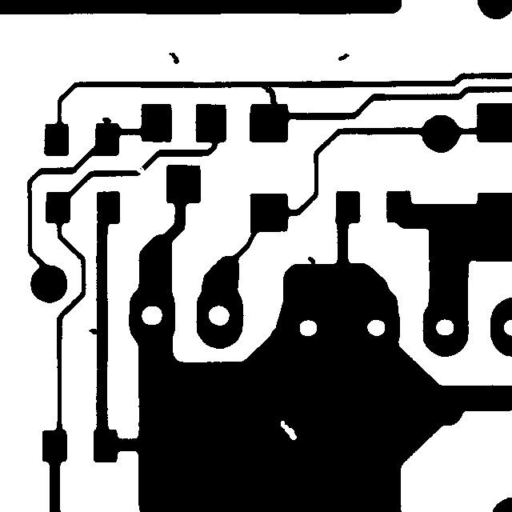copper: (161, 45, 186, 71), (330, 46, 357, 68)
open: (128, 158, 153, 181)
pin-hole: (273, 413, 304, 447)
short: (254, 78, 285, 114)
spur: (300, 249, 322, 274), (81, 321, 106, 342), (94, 110, 118, 131)
